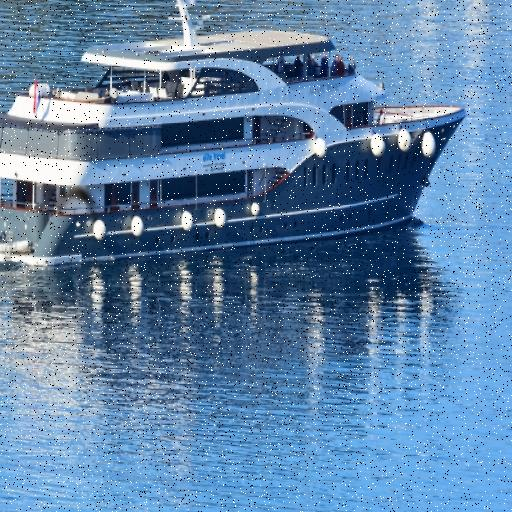cruises: (1, 1, 470, 276)
